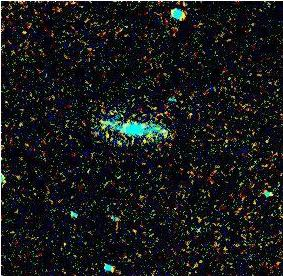star: (174, 99, 204, 129)
